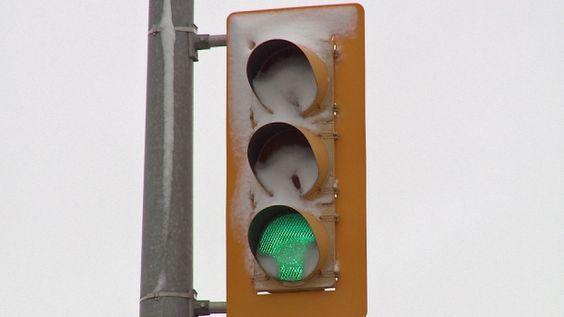green: (226, 6, 373, 317)
